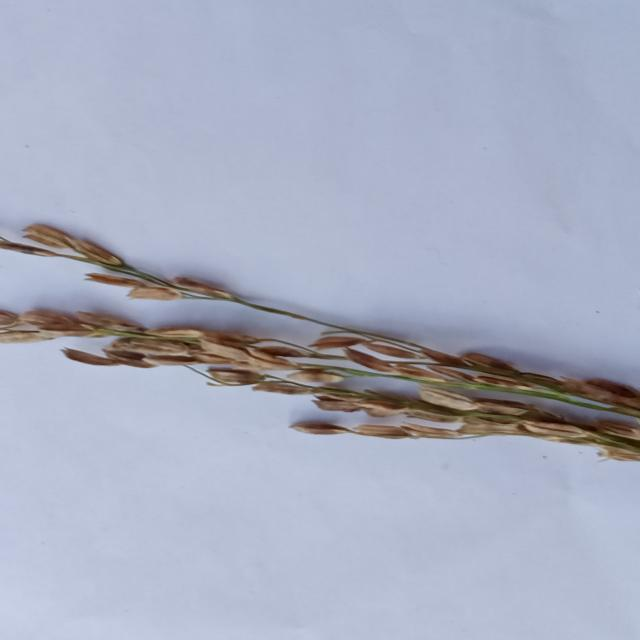Neck_Blast: (5, 243, 637, 461)
